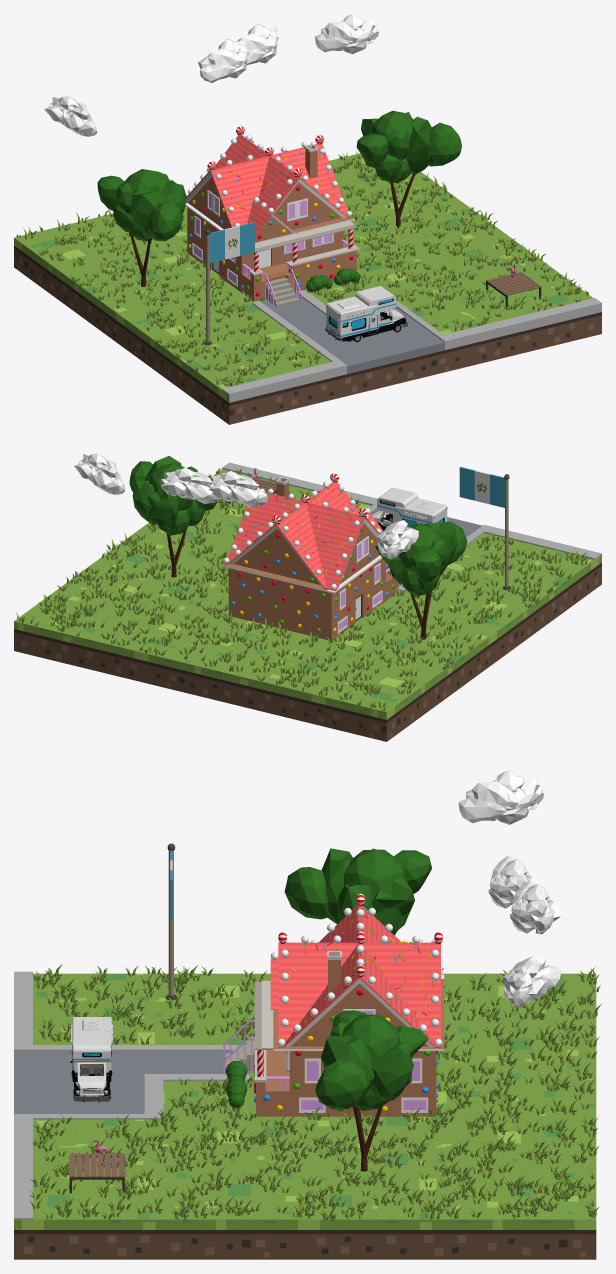
3 views of the same model, one above another, from view 1: azimuth 30°, elevation 25°; view 2: azimuth 150°, elevation 25°; view 3: azimuth 270°, elevation 25° (orthographic). The views are drawn at different scales.
Parts seen in each view (by area): view 1: Cube.006, Cube.1203, Circle.012_Grass_0.192, Cube.007, tree, tree.001, VEHICLES_CAMPER, OBJRANDOM_GUATEMALAN_FLAG, Cube.009; view 2: Cube.006, Cube.1203, Circle.012_Grass_0.192, Cube.007, tree.001, tree, VEHICLES_CAMPER, OBJRANDOM_GUATEMALAN_FLAG; view 3: Cube.006, Circle.012_Grass_0.192, Cube.1203, tree, Cube.007, tree.001, VEHICLES_CAMPER, Cube.009, OBJRANDOM_GUATEMALAN_FLAG.
Boxes of the visible parts, box(x1,y1,x2,y2) form: Cube.006: box(14, 153, 601, 424); Cube.1203: box(185, 126, 359, 307); Circle.012_Grass_0.192: box(16, 150, 588, 386); Cube.007: box(44, 14, 378, 136); tree: box(356, 110, 461, 228); tree.001: box(97, 169, 186, 286); VEHICLES_CAMPER: box(325, 286, 407, 341); OBJRANDOM_GUATEMALAN_FLAG: box(203, 222, 254, 345); Cube.009: box(486, 272, 541, 306); Cube.006: box(14, 462, 601, 741); Cube.1203: box(221, 473, 398, 640); Circle.012_Grass_0.192: box(16, 468, 588, 711); Cube.007: box(74, 453, 418, 559); tree.001: box(375, 521, 467, 639); tree: box(129, 456, 216, 577); VEHICLES_CAMPER: box(372, 487, 447, 530); OBJRANDOM_GUATEMALAN_FLAG: box(459, 467, 511, 590); Cube.006: box(14, 971, 596, 1259); Circle.012_Grass_0.192: box(29, 964, 601, 1220); Cube.1203: box(223, 893, 444, 1116); tree: box(315, 1010, 428, 1171); Cube.007: box(458, 770, 561, 1007); tree.001: box(284, 848, 432, 935); VEHICLES_CAMPER: box(70, 1017, 112, 1102); Cube.009: box(69, 1153, 124, 1193); OBJRANDOM_GUATEMALAN_FLAG: box(165, 843, 177, 1000).
Bounding box in the file's own units: 4071 × 2328 × 4040.
Materials: 47 (4 with a texture image).
